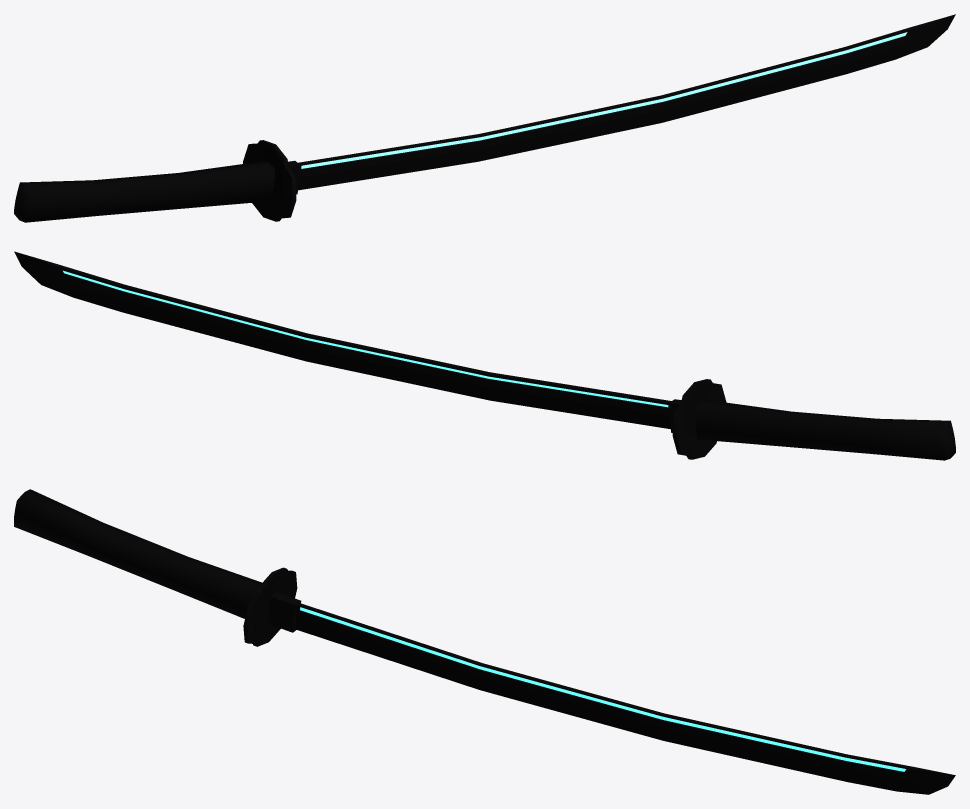
Rendered from katana.glb.
The picture shows the model from 3 angles, top to bottom: view 1: azimuth 30°, elevation 25°; view 2: azimuth 150°, elevation 25°; view 3: azimuth 330°, elevation 25°; orthographic projection.
Parts seen in each view (by area): view 1: Katana; view 2: Katana; view 3: Katana.
Boxes of the visible parts, x1,y1,x2,y2 form: Katana: [14, 14, 955, 222]; Katana: [14, 251, 955, 460]; Katana: [14, 489, 955, 794].
Size of the model in its own units: 1.06 by 0.1018 by 0.0979.
